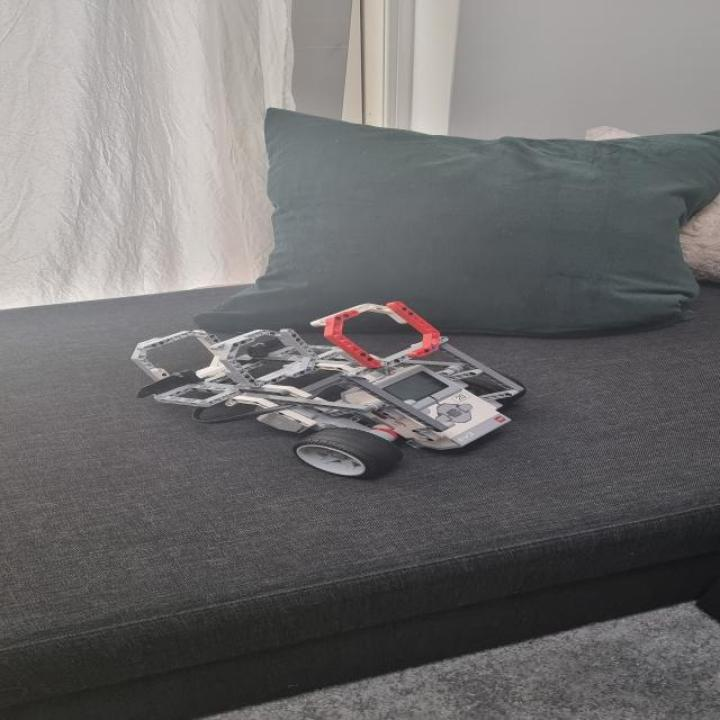robot: (128, 301, 528, 479)
